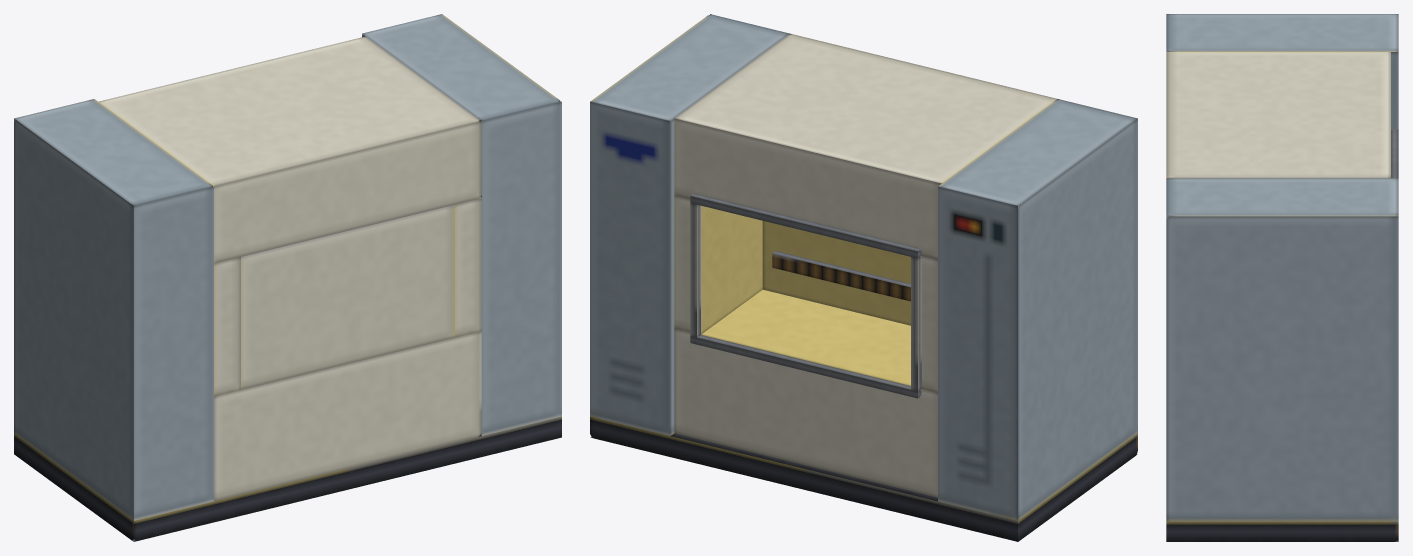
Rendered from era2_drum_bank.obj.
The picture shows the model from 3 angles, left to right: view 1: azimuth 30°, elevation 25°; view 2: azimuth 150°, elevation 25°; view 3: azimuth 270°, elevation 25°; orthographic projection. The views are drawn at different scales.
Parts seen in each view (by area): view 1: era2_drum_bank; view 2: era2_drum_bank; view 3: era2_drum_bank.
Part boxes in pixels (<box>): era2_drum_bank: <box>14,14,561,541</box>; era2_drum_bank: <box>590,14,1137,541</box>; era2_drum_bank: <box>1166,14,1398,541</box>.
Size of the model in its own units: 4 by 3 by 1.94.
